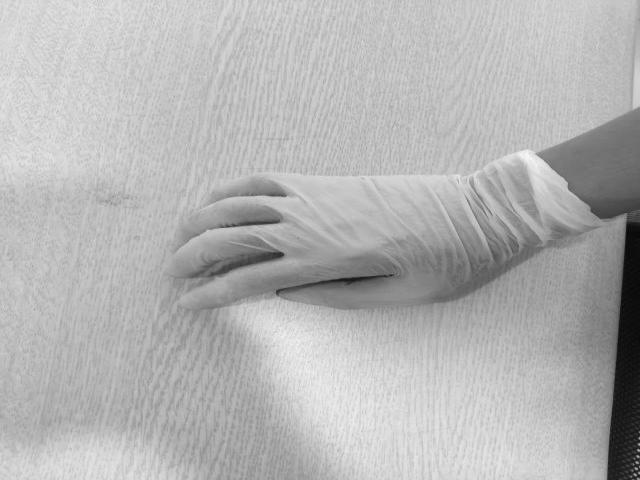gloved: (162, 172, 486, 310)
